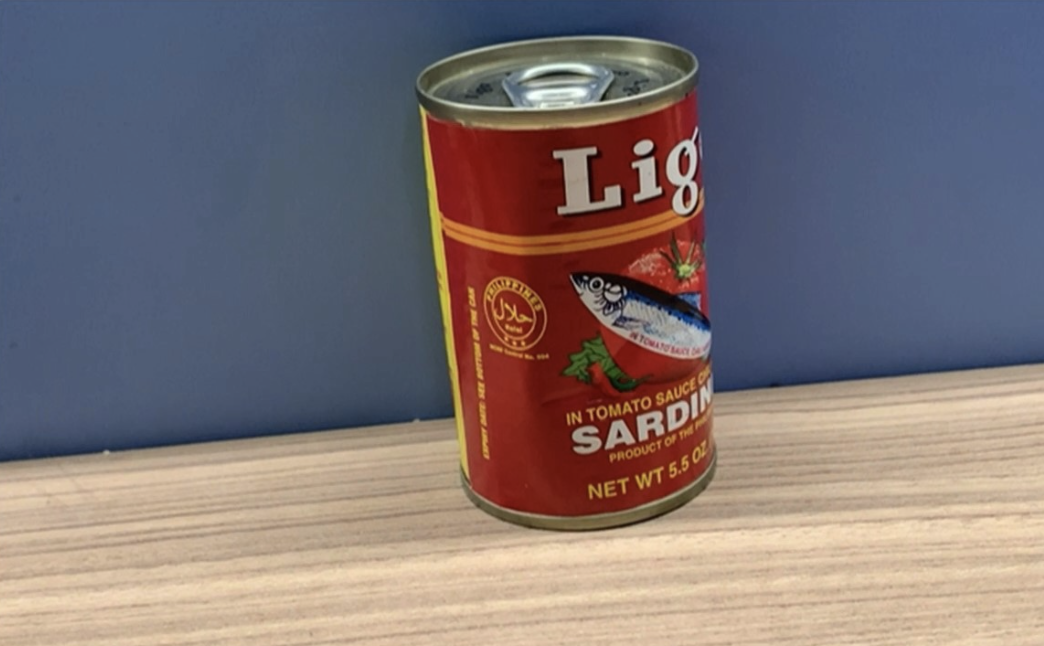sardines_150g: (454, 114, 711, 498)
